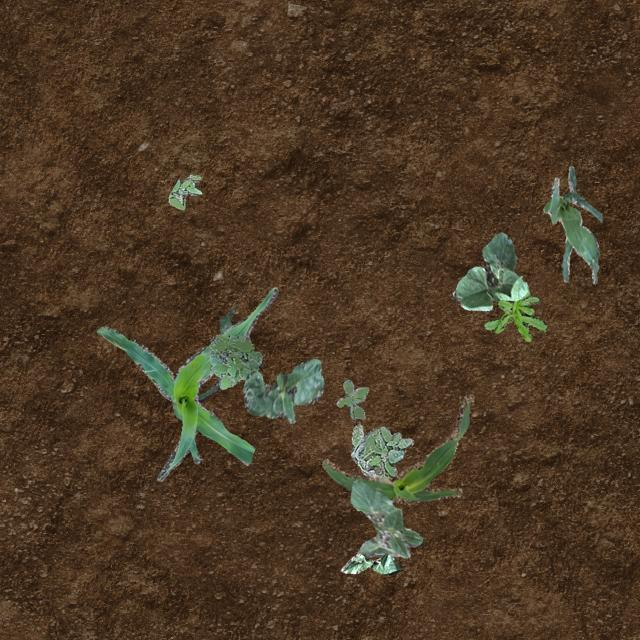crop: (96, 286, 276, 480), (322, 392, 474, 504), (542, 165, 600, 282), (452, 230, 526, 310), (349, 478, 422, 556), (242, 358, 324, 422), (196, 306, 234, 402), (340, 552, 400, 574)
weed: (350, 422, 412, 478), (484, 290, 546, 340), (208, 332, 260, 388), (336, 378, 368, 418), (167, 174, 200, 208)
